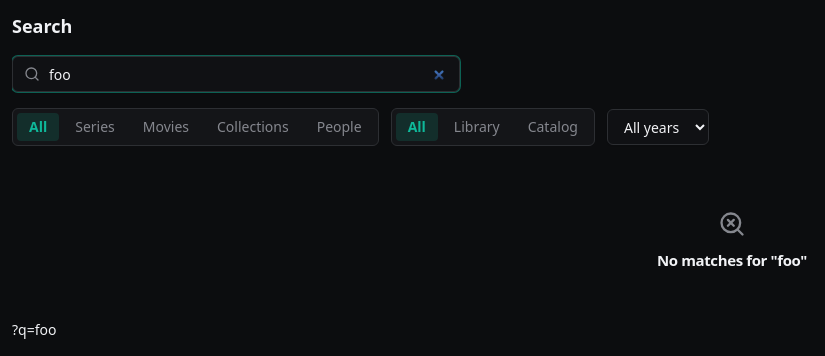
Test: <SearchPage /> › seeds the input from ?q= and updates the URL while typing
This screenshot has width=825, height=356.
Replace the text in the search field with test id "search-page-input" with "bar": (236, 74) [12,56,460,92]
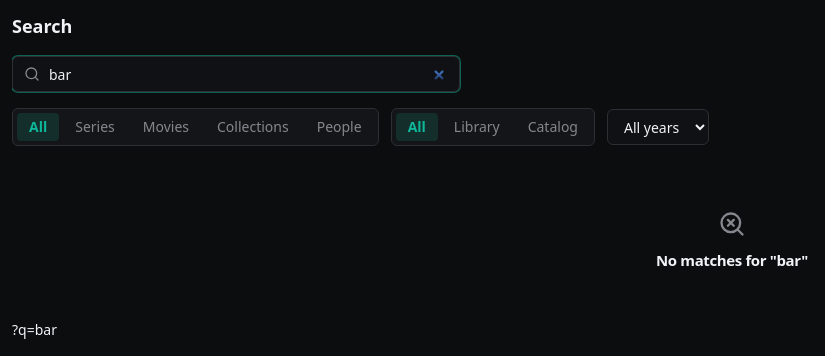
Expected: the text with test id "loc" shows "q=bar", [12,320,57,339]
